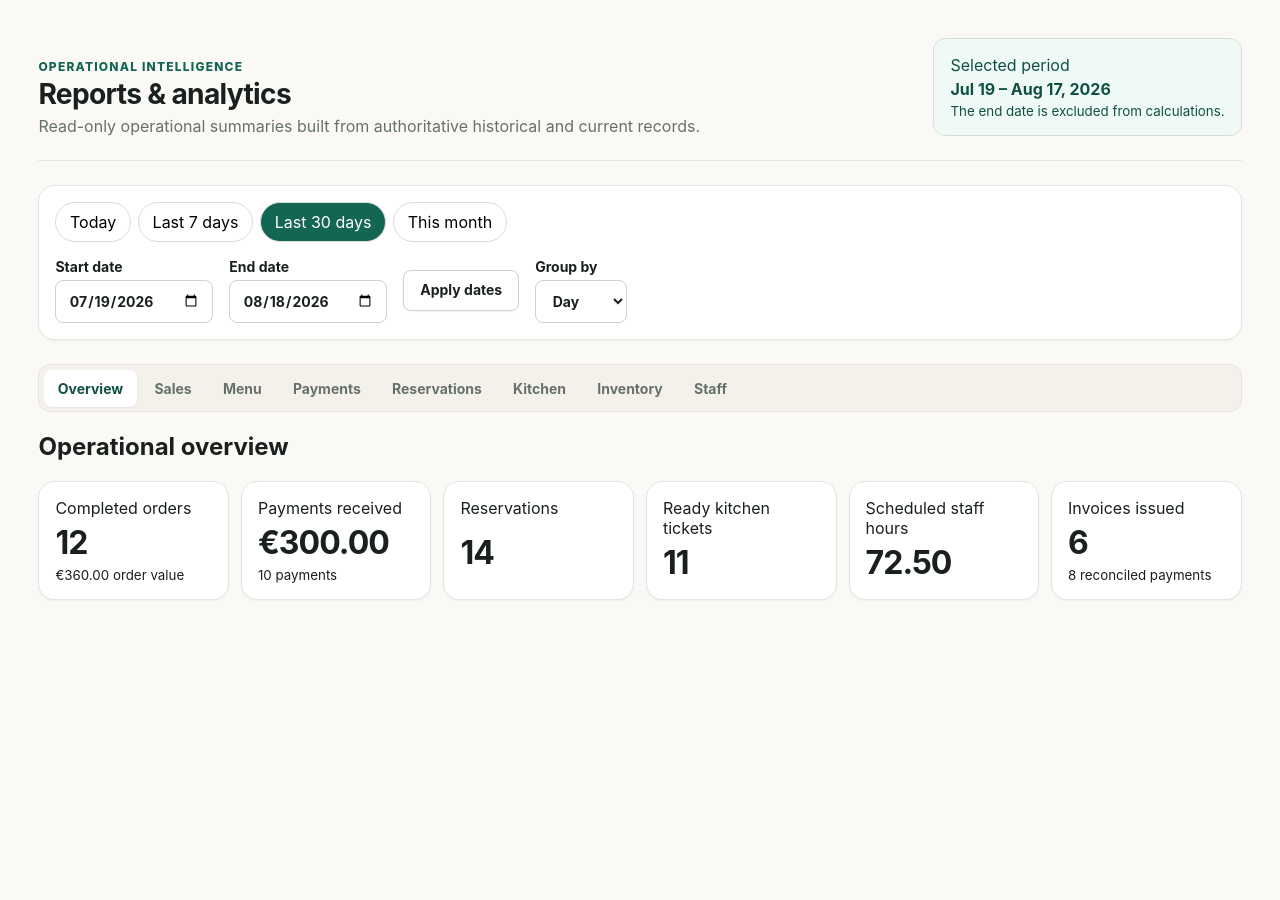
reports page › loads the overview and switches to server-authoritative report sections
Expected: the text "€360.00 order value" is shown, left=55, top=567, right=184, bottom=583
Click the tab "Sales".
click(173, 388)  # box left=141, top=370, right=205, bottom=407
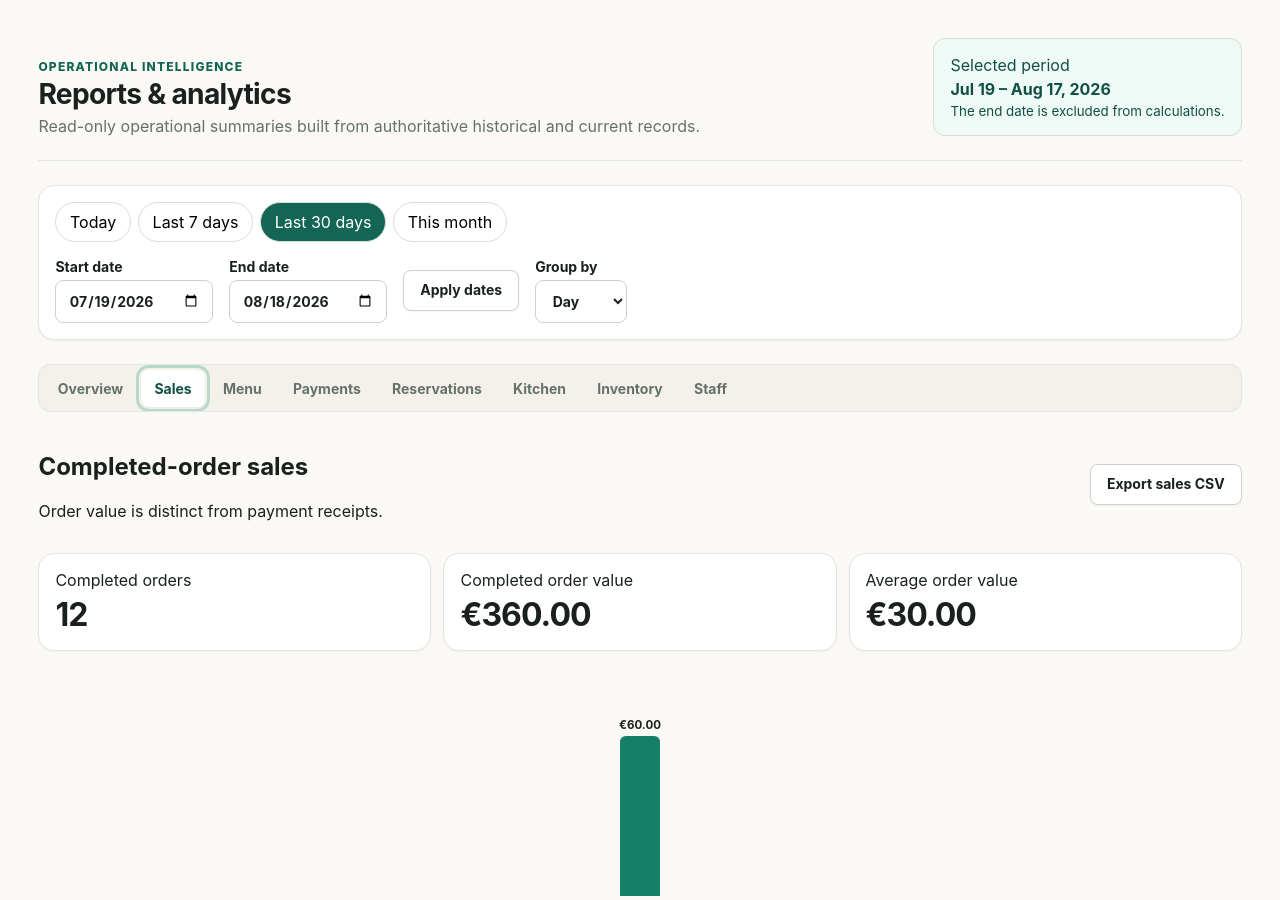
Click the tab "Inventory".
click(630, 388)  # box left=584, top=370, right=676, bottom=407
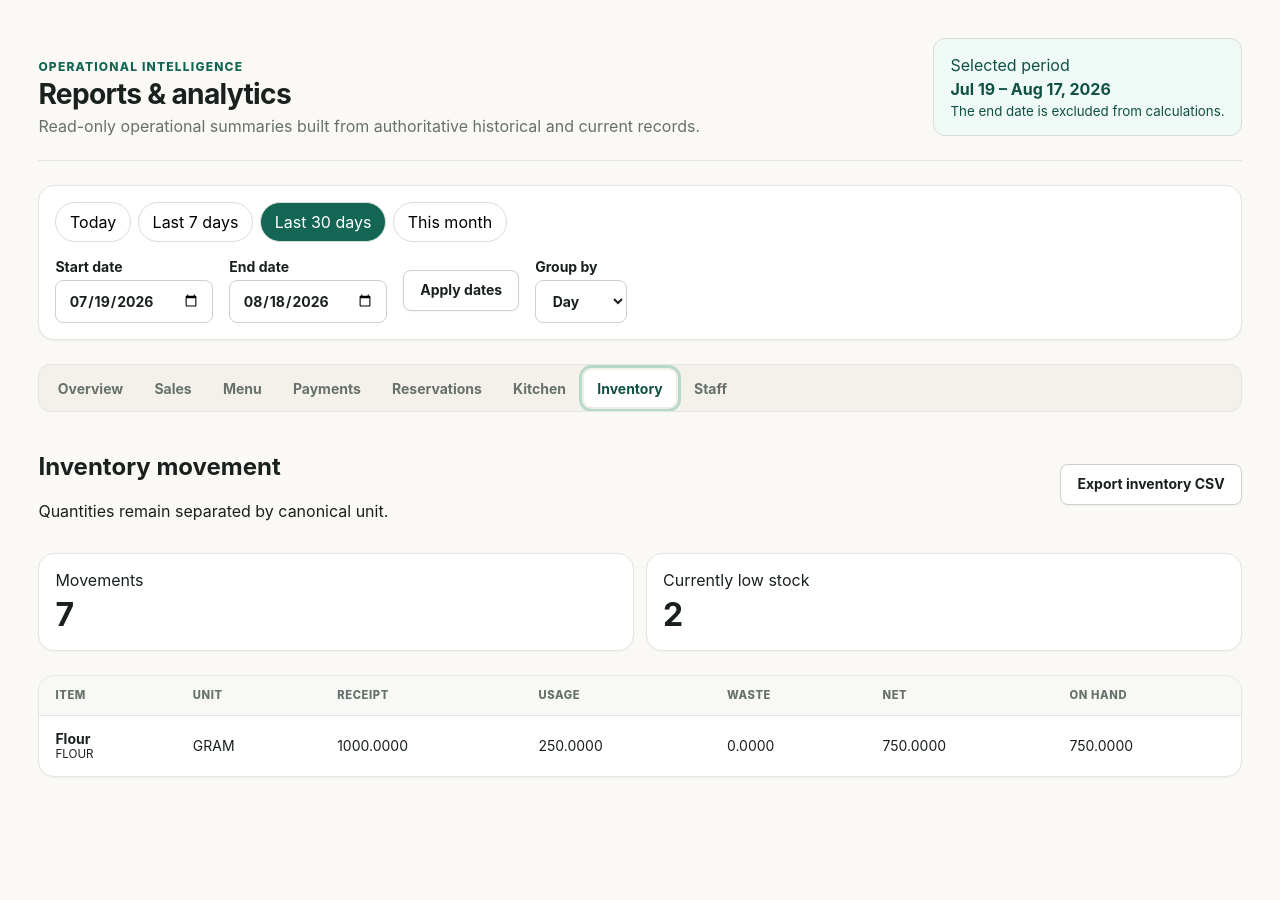
Expected: the text "Flour" is shown, left=55, top=730, right=90, bottom=747
Expected: the text "GRAM" is shown, left=177, top=715, right=321, bottom=776
